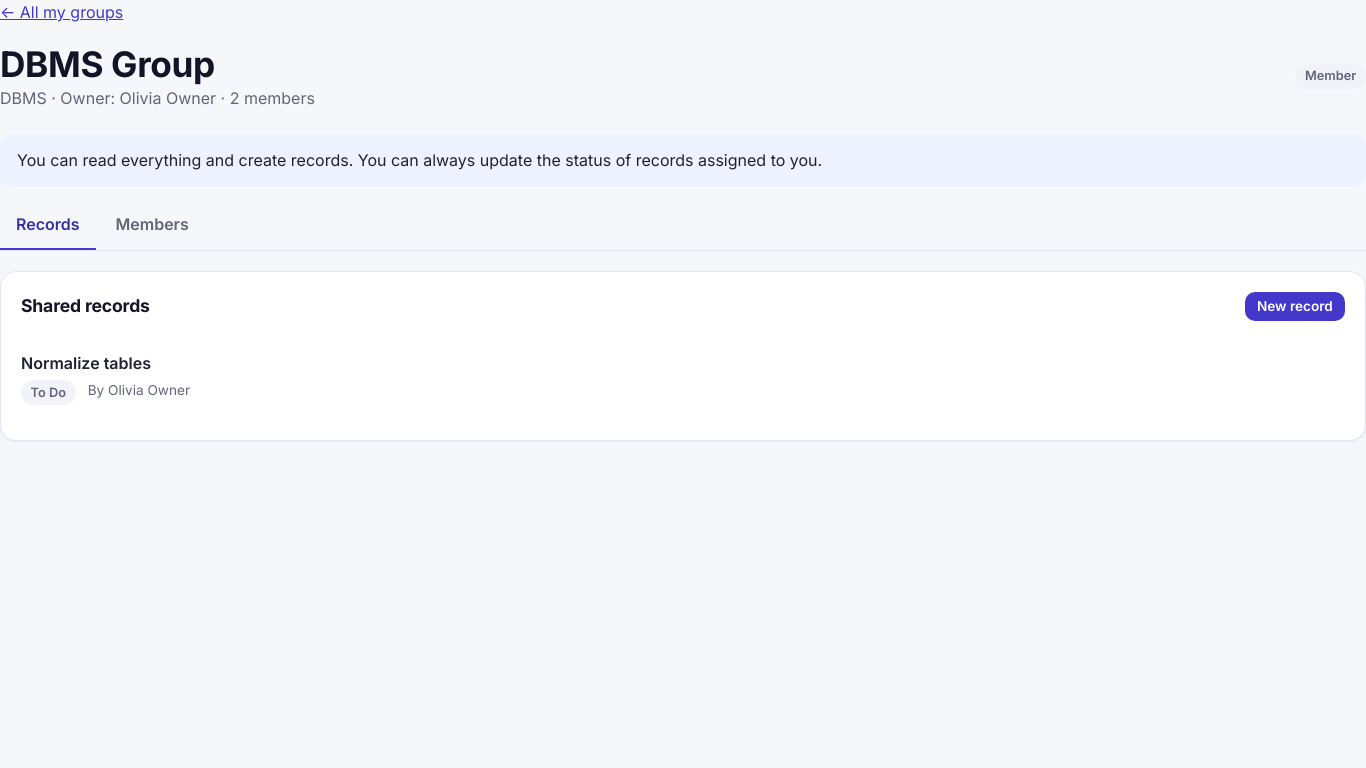
Test case: GroupDetailPage permissions › create-only member can add records but cannot pick an assignee
Click the button "New record".
click(1295, 306)  # box [1245,292,1345,321]
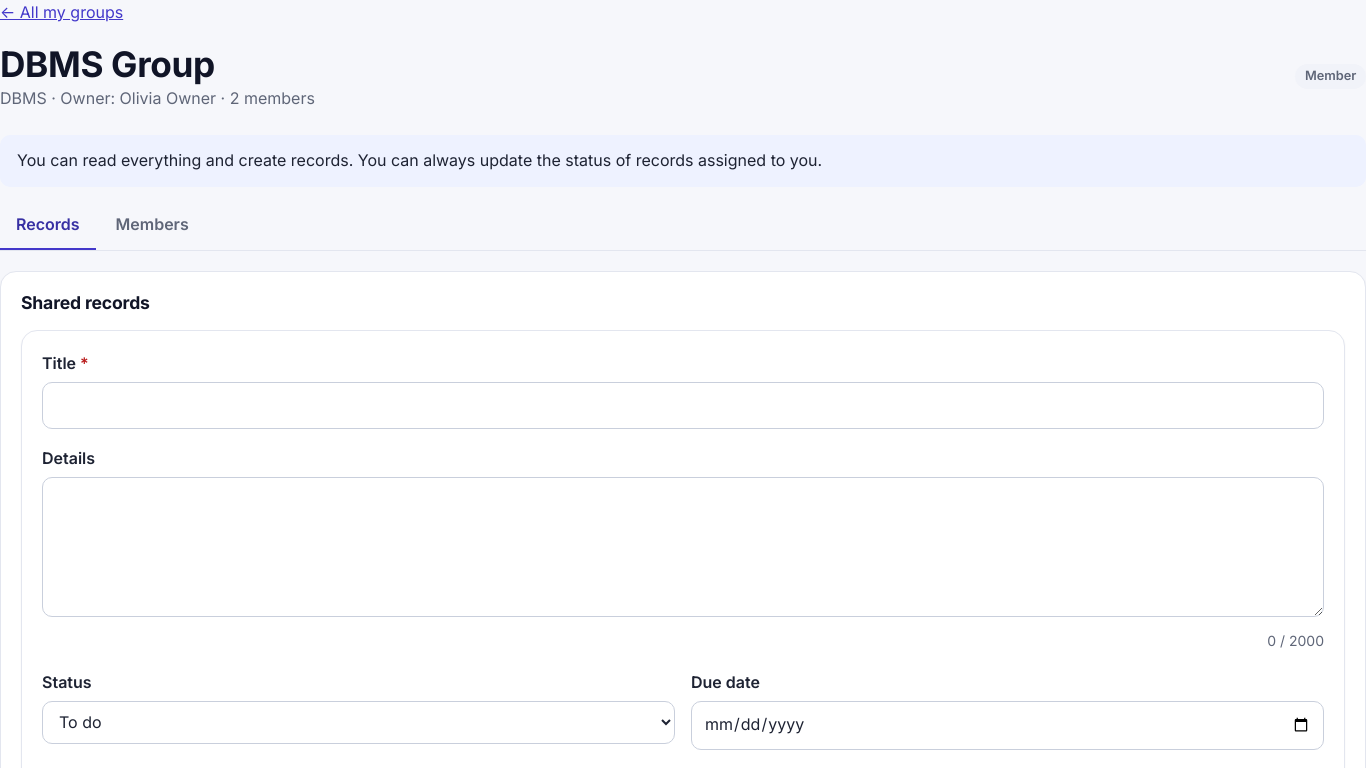
Expected: the text "read everything and create records" is shown, [17,150,822,170]
Expected: the field labelled "Title *" is shown, [42,382,1324,428]
